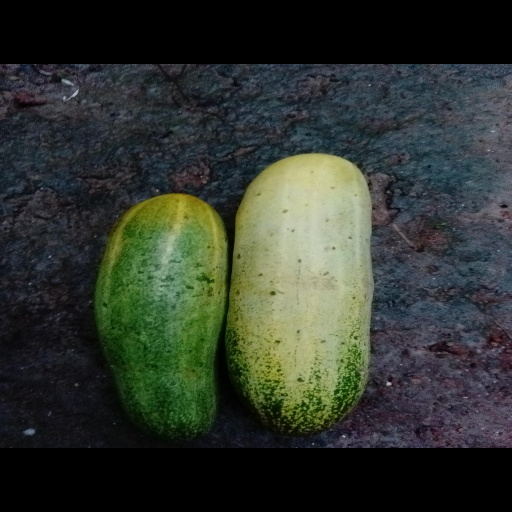concombre: (224, 152, 375, 439), (93, 193, 230, 444)
